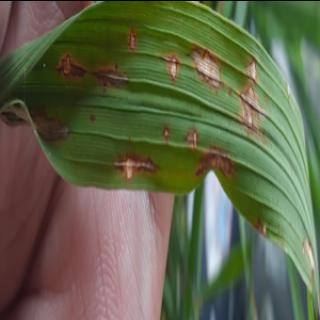Blast: (47, 47, 130, 92), (234, 52, 268, 136), (102, 146, 168, 180), (182, 36, 225, 88), (156, 113, 208, 153), (195, 149, 239, 178), (292, 230, 316, 280), (154, 52, 182, 78), (250, 216, 274, 242), (122, 18, 136, 53)
